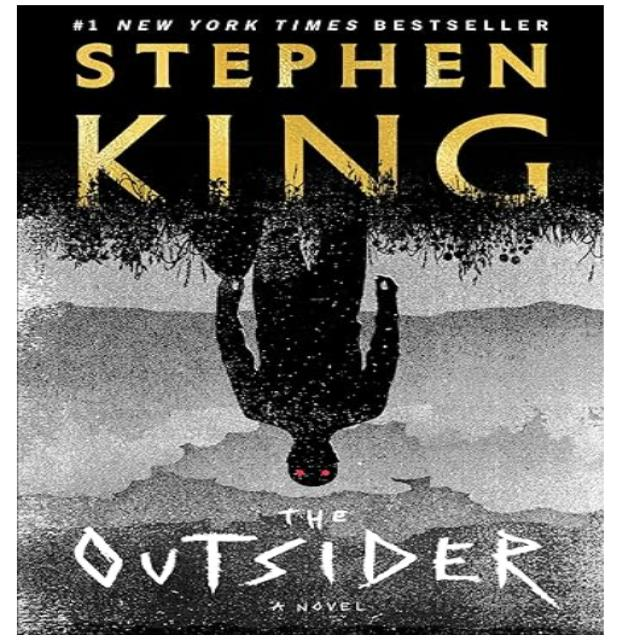titles-or-authors: (64, 38, 560, 212), (62, 500, 569, 600)
